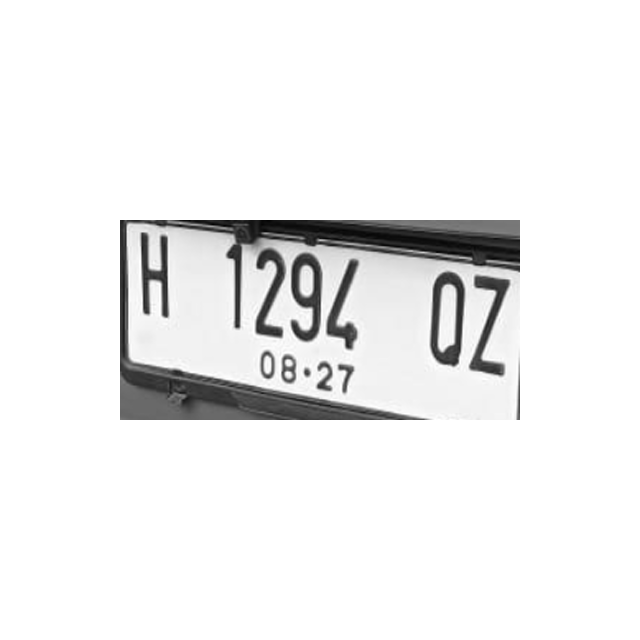contain: (466, 271, 512, 379), (132, 228, 178, 327), (201, 240, 247, 339), (322, 253, 362, 355), (426, 268, 466, 370), (286, 250, 324, 347), (252, 246, 288, 345)
